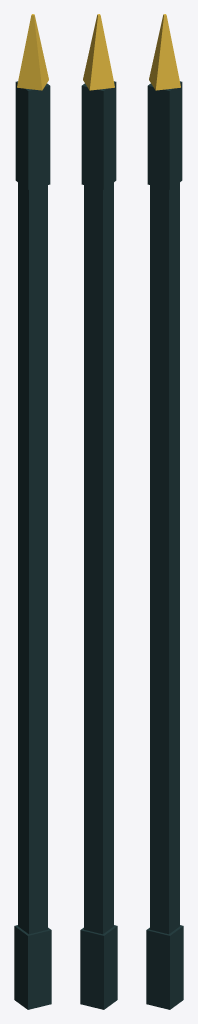
Rendered from aviary_post.fbx.
The picture shows the model from 3 angles, left to right: view 1: azimuth 30°, elevation 25°; view 2: azimuth 150°, elevation 25°; view 3: azimuth 330°, elevation 25°; orthographic projection.
Visible parts, largest first — view 1: aviary_post; view 2: aviary_post; view 3: aviary_post.
Boxes of the visible parts, x1=… form: aviary_post: x1=14, y1=14, x2=51, y2=1009; aviary_post: x1=80, y1=14, x2=117, y2=1009; aviary_post: x1=146, y1=14, x2=183, y2=1009.
Size of the model in its own units: 0.25 by 7.3 by 0.25.
